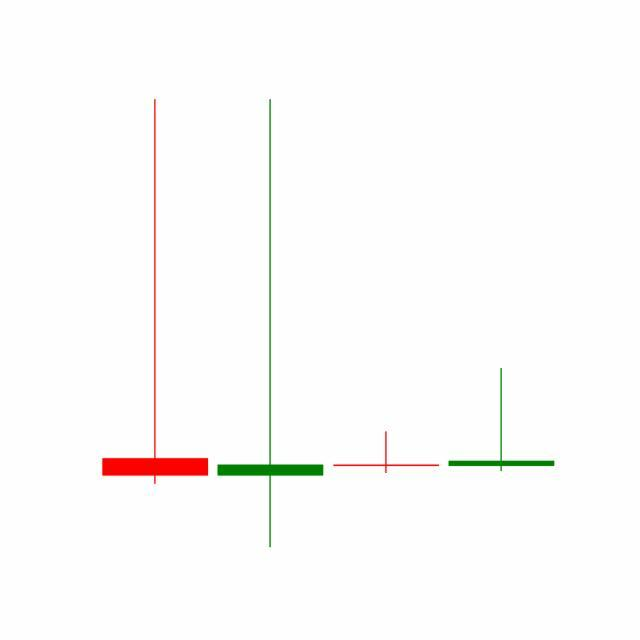Gravestone Doji: (444, 367, 560, 473)
